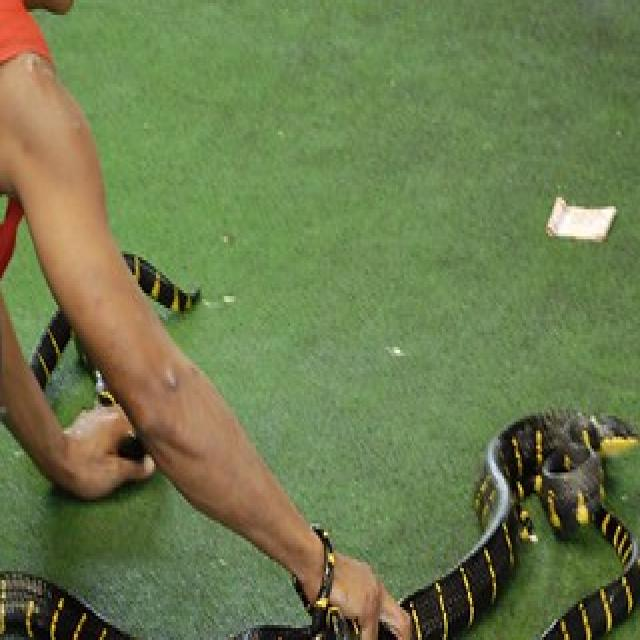snake: (0, 386, 640, 640)
